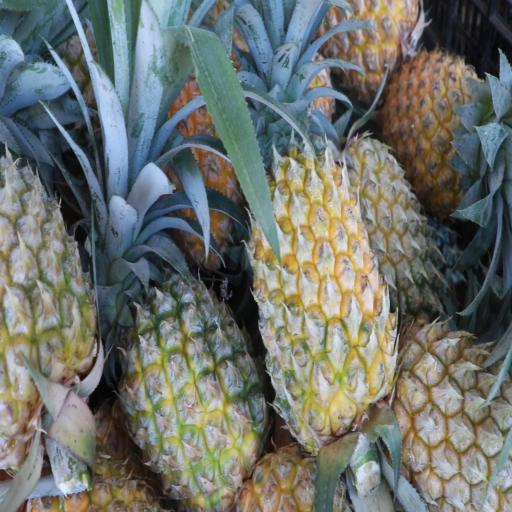------------------------------: (0, 162, 97, 469)
Pineapple - v8 v1: (250, 153, 388, 441), (128, 276, 263, 504), (392, 50, 494, 190), (321, 0, 413, 92)
